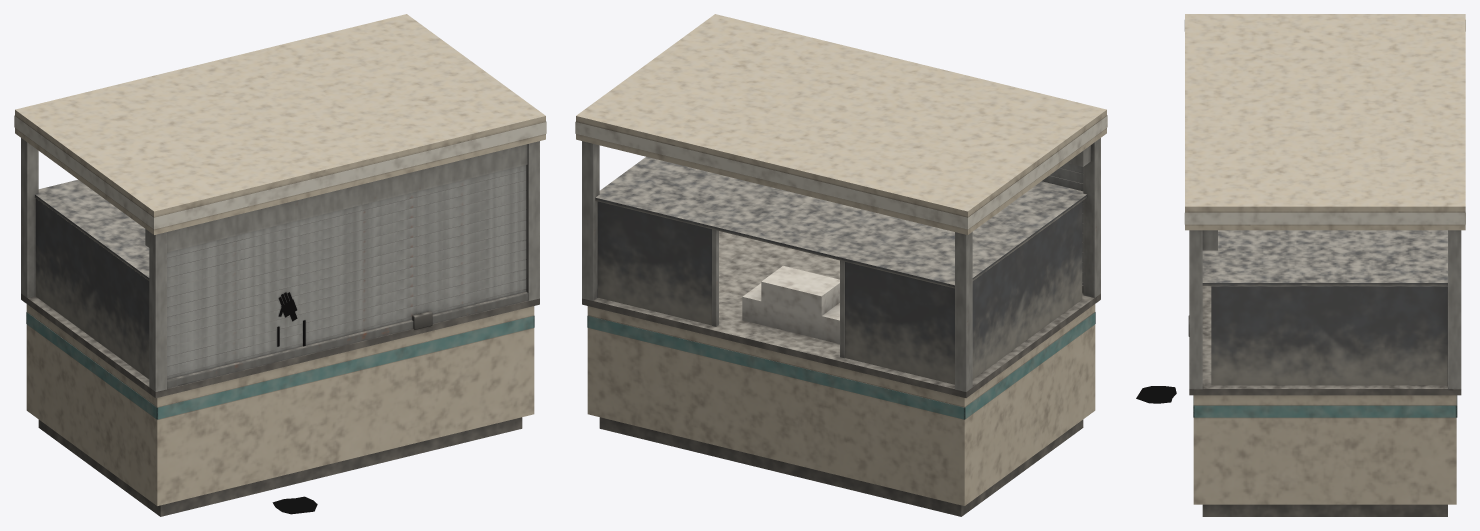
Rendered from mall_kiosk.fbx.
3 views of the same model, side by side, from view 1: azimuth 30°, elevation 25°; view 2: azimuth 150°, elevation 25°; view 3: azimuth 270°, elevation 25° (orthographic).
Parts seen in each view (by area): view 1: Body; view 2: Body; view 3: Body.
Part boxes in pixels (x1=…): Body: x1=14, y1=14, x2=546, y2=516; Body: x1=575, y1=14, x2=1107, y2=516; Body: x1=1136, y1=14, x2=1465, y2=516.
Bounding box in the file's own units: 10.42 × 8 × 7.53.
1 material, 1 textured.
